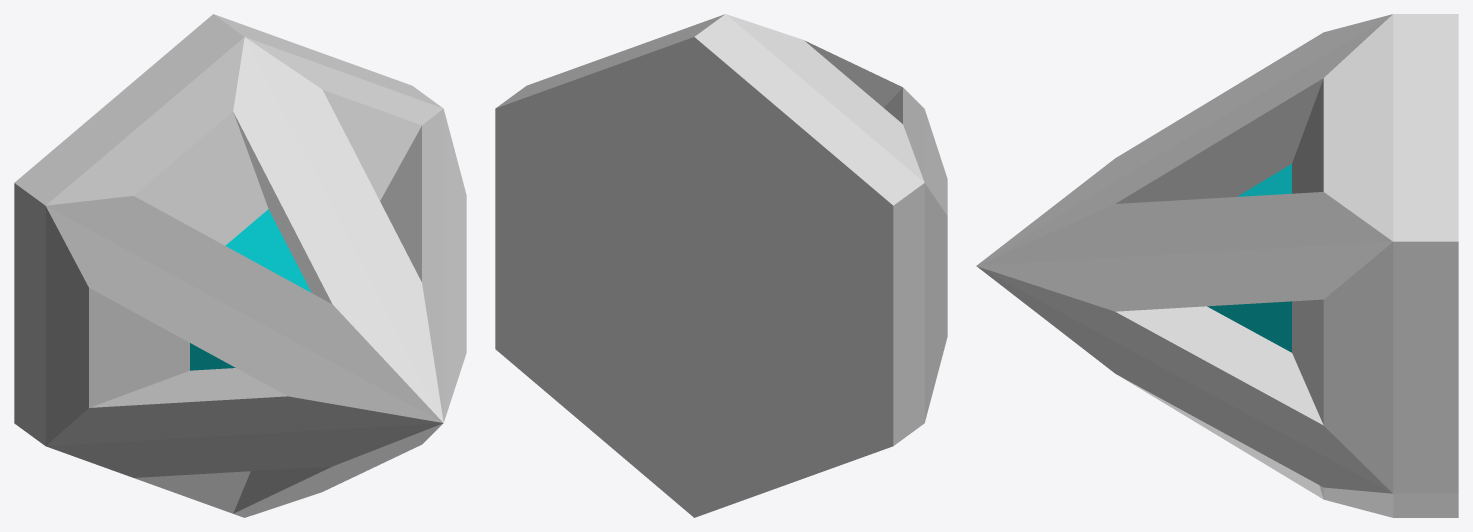
The model's file is Hexagon decoration1.fbx.
The picture shows the model from 3 angles, left to right: view 1: azimuth 30°, elevation 25°; view 2: azimuth 150°, elevation 25°; view 3: azimuth 270°, elevation 25°; orthographic projection. The views are drawn at different scales.
Parts seen in each view (by area): view 1: Circle.000; view 2: Circle.000; view 3: Circle.000.
Part boxes in pixels (x1,y1,x2,y2): Circle.000: (14,14,466,517); Circle.000: (495,14,947,517); Circle.000: (976,14,1458,517).
Size of the model in its own units: 173 by 200 by 174.
